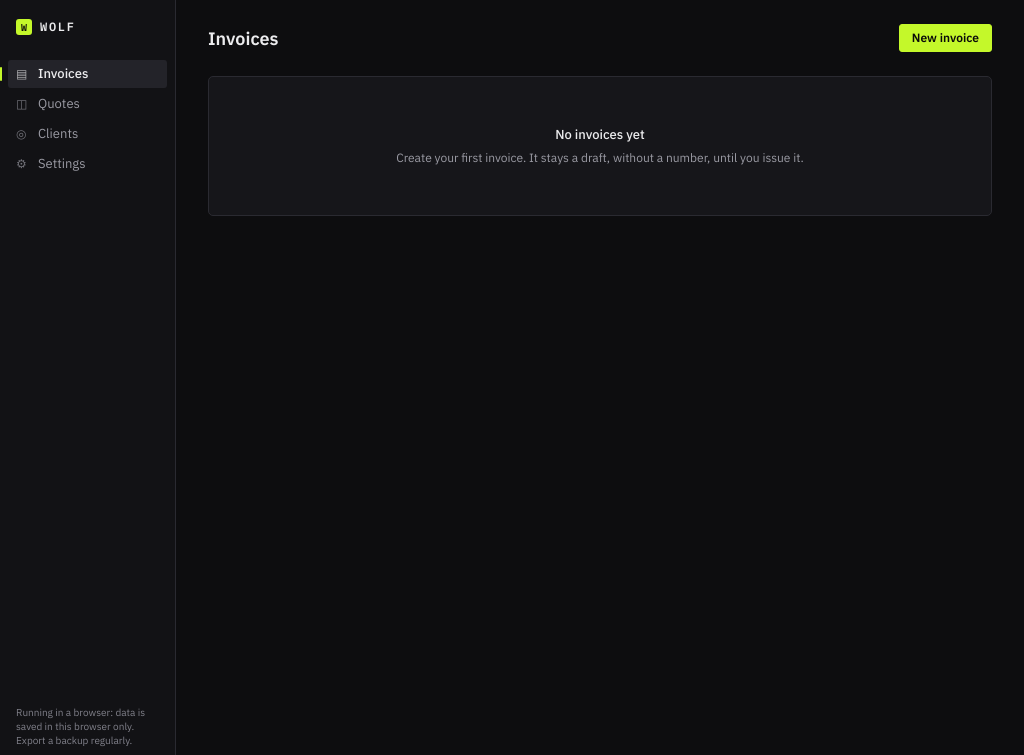
Test: saving › shows a save failure as a visible alert
Click the button "⚙ Settings" at (88, 164), box [8,150,167,178]
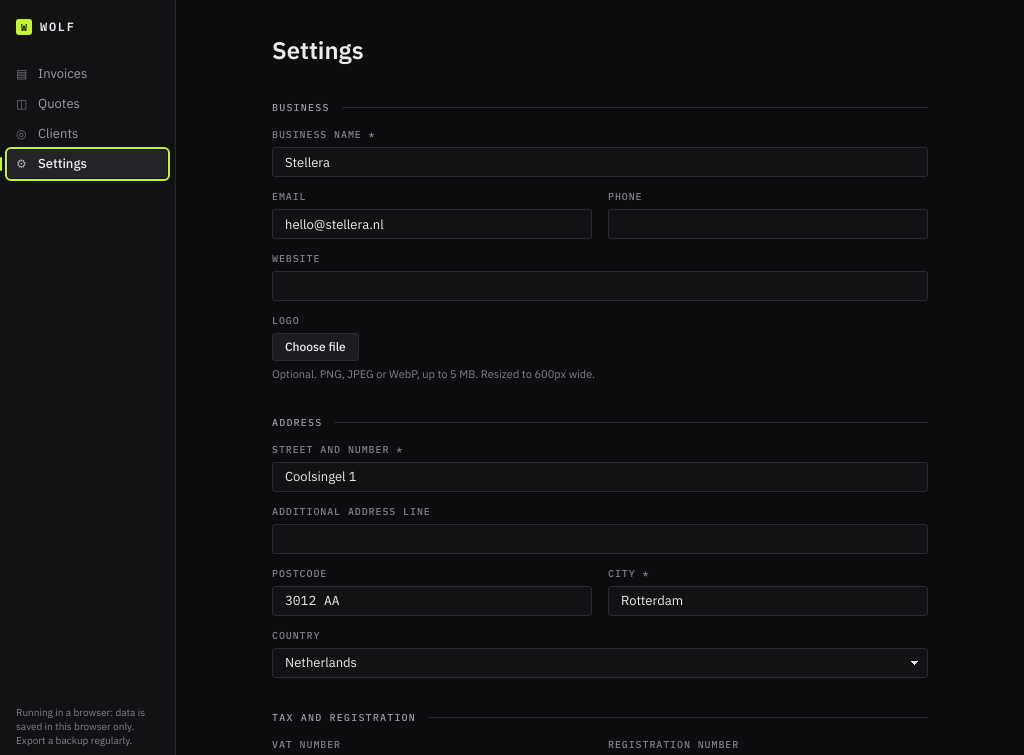
Type "1" into the field labelled "Phone" at (768, 224), box [608,209,928,239]
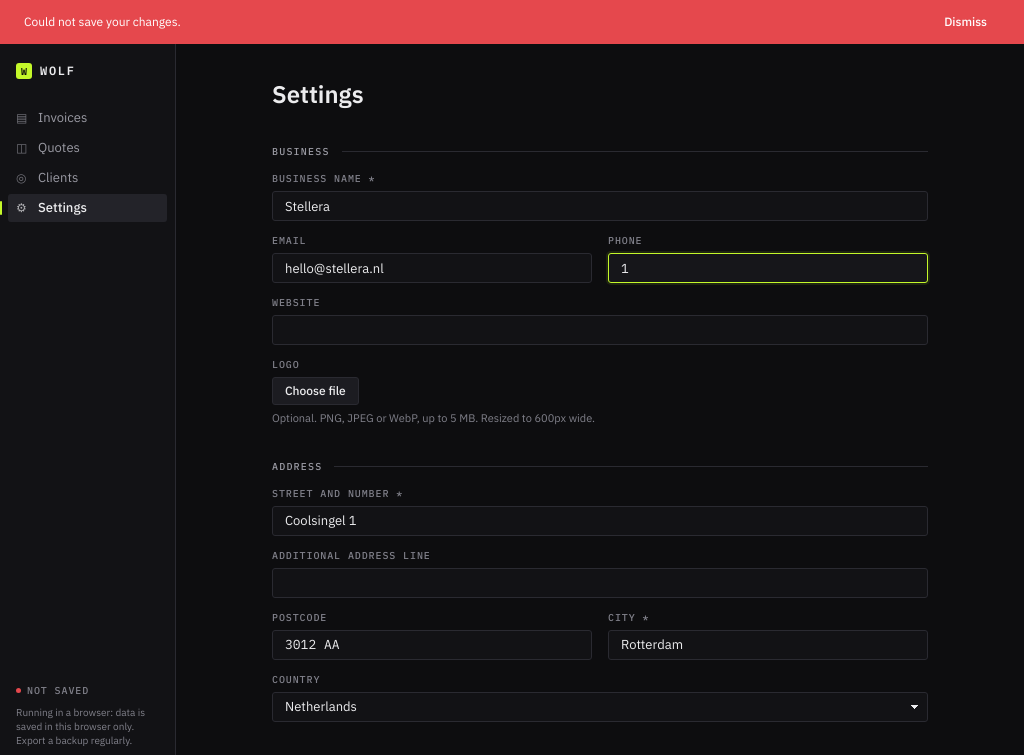
Expected: the message "Could not save your changes. Dismiss" is shown, [0,0,1023,44]
Expected: the text "Not saved" is shown, [27,683,89,698]
